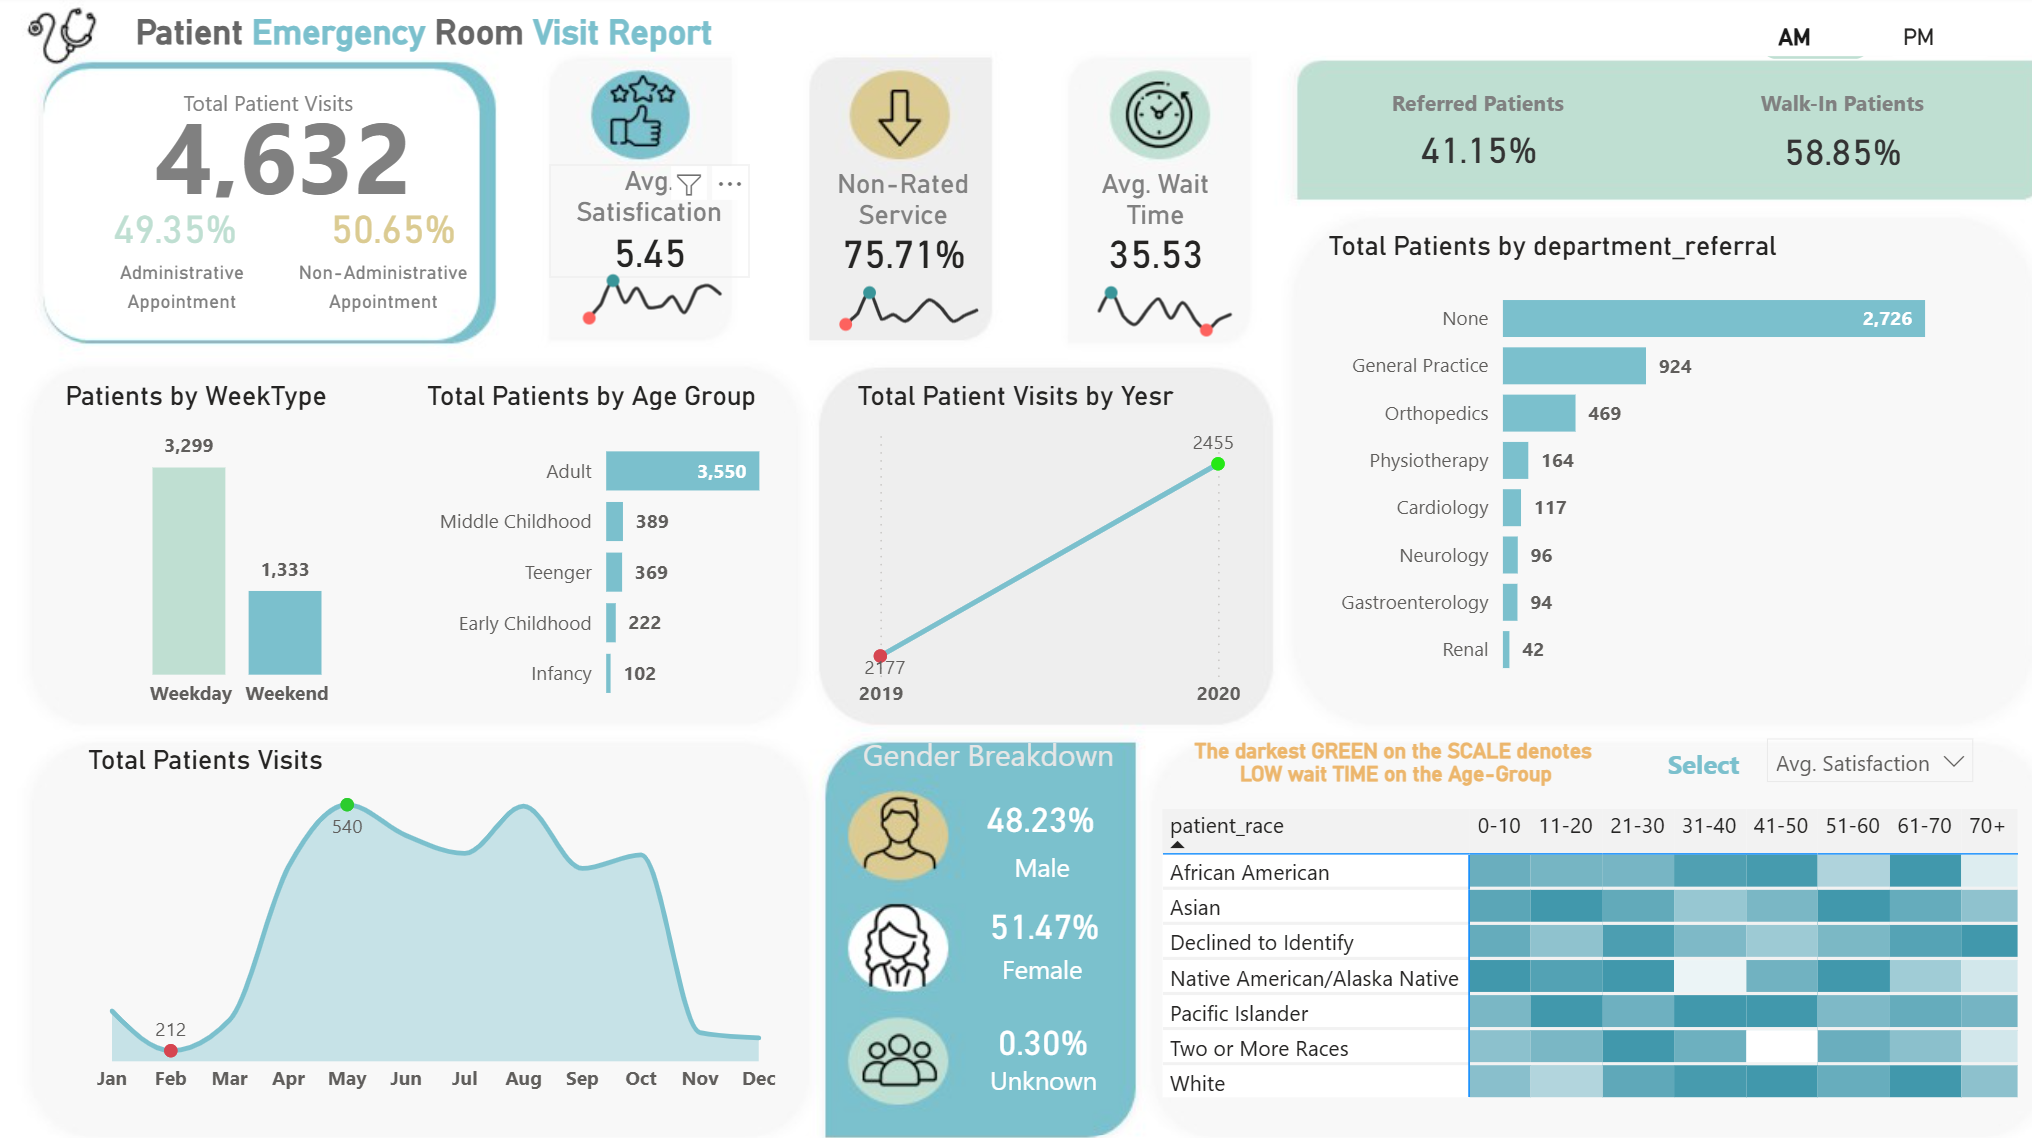

The dashboard page shown, as its layout file describes it:
{"tool":"powerbi","page":{"name":"Page 1","canvas":[1280,720],"ordinal":0},"visuals":[{"type":"cardVisual","fields":{"Data":["Calculation.Total Patients"]},"box":[76.1,32.3,208.3,108.9],"z":0},{"type":"card","fields":{"Values":["Calculation.% Administrative Schedule"]},"box":[66.9,127.2,89.8,38.3],"z":1000},{"type":"card","fields":{"Values":["Calculation.% NonAdministrative Schedule"]},"box":[189,126,118.5,39.5],"z":2000},{"type":"pivotTable","fields":{"Values":["Calculation.Average Satisfaction Score"],"Rows":["Patients Datasets.patient_race"],"Columns":["Patients Datasets.Age Group"]},"box":[726.3,505.3,553.9,192.2],"z":3000},{"type":"slicer","fields":{"Values":["Parameter.Parameter"]},"box":[1100.2,455.8,149.6,40.6],"z":4000},{"type":"clusteredBarChart","fields":{"Category":["Patients Datasets.Age Group"],"Y":["Calculation.Total Patients"]},"box":[265.5,240.8,250.7,215],"z":5000},{"type":"lineChart","title":"Total Patients Visits","fields":{"Category":["Date.Month"],"Y":["Calculation.Total Patients","Calculation.Values Max Point (Month)"]},"box":[52.5,469.7,444.9,227.9],"z":6000},{"type":"lineChart","title":"Total Patient Visits by Yesr","fields":{"Category":["Date.Year"],"Y":["Calculation.Total Patients","Calculation.Values Max Point (Year)"]},"box":[535.1,240.8,249.7,215],"z":7000},{"type":"clusteredBarChart","fields":{"Y":["Calculation.Total Patients"],"Category":["Patients Datasets.department_referral"]},"box":[830.3,146.6,421.1,292.3],"z":8000},{"type":"card","fields":{"Values":["Calculation.% Referred Patients"]},"box":[862.6,75.4,134.1,41.9],"z":9000},{"type":"card","fields":{"Values":["Calculation.% UnReferred Patients"]},"box":[1098.5,77.6,117.9,38.6],"z":10000},{"type":"card","fields":{"Values":["Calculation.HitMap Caption"]},"box":[734.2,457.8,282.4,47.6],"z":11000},{"type":"textbox","box":[61.8,157.6,108.9,51.5],"z":12000},{"type":"textbox","box":[180.3,157.6,124.5,51.5],"z":13000},{"type":"card","title":"Avg. Satisfication","fields":{"Values":["Calculation.Average Satisfaction Score"]},"box":[346.8,106,124.8,70.3],"z":14000},{"type":"card","title":"Non-Rated Service","fields":{"Values":["Calculation.% No Rating"]},"box":[508.3,108,119.9,68.4],"z":15000},{"type":"card","title":"Avg. Wait Time","fields":{"Values":["Calculation.Average Wait Time"]},"box":[672.8,108,107,68.4],"z":16000},{"type":"advancedSlicerVisual","fields":{"Values":["Patients Datasets.Moment"]},"box":[1098.8,0,160.5,45.6],"z":17000},{"type":"textbox","box":[866.2,52.6,125.7,39.5],"z":18000},{"type":"textbox","box":[1094.8,52.6,125.7,32.3],"z":19000},{"type":"clusteredColumnChart","title":"Patients by WeekType","fields":{"Y":["Calculation.Total Patients"],"Category":["Date.WeekType"]},"box":[38.6,240.8,226.9,215],"z":20000},{"type":"card","fields":{"Values":["Calculation.%Male Visit"]},"box":[603.4,558.8,106,49.5],"z":21000},{"type":"card","fields":{"Values":["Calculation.%Female Visit"]},"box":[606.4,491.5,96.1,49.5],"z":22000},{"type":"card","fields":{"Values":["Calculation.%Unkonwn Visit"]},"box":[606.4,634.1,99.1,44.6],"z":23000},{"type":"textbox","box":[76.1,52.6,189.1,43.1],"z":24000},{"type":"PBI_CV_25997FEB_F466_44FA_B562_AC4063283C4C","fields":{"measure":["Calculation.Average Satisfaction Score"],"axis":["Date.Month"]},"box":[353.5,161.9,122.1,51.5],"z":25000},{"type":"PBI_CV_25997FEB_F466_44FA_B562_AC4063283C4C","fields":{"measure":["Calculation.% No Rating"],"axis":["Date.Month"]},"box":[513.9,169.1,122.1,47.9],"z":26000},{"type":"PBI_CV_25997FEB_F466_44FA_B562_AC4063283C4C","fields":{"measure":["Calculation.Average Wait Time"],"axis":["Date.Month"]},"box":[673.1,169.1,122.1,51.5],"z":27000},{"type":"textbox","box":[527.1,457.8,189.3,35.7],"z":28000},{"type":"textbox","box":[622.2,530.1,66.4,39.6],"z":29000},{"type":"textbox","box":[620.3,594.5,70.3,39.6],"z":30000},{"type":"textbox","box":[604.4,663.9,104,49.5],"z":31000},{"type":"textbox","box":[1037.4,465.7,66.4,39.6],"z":32000},{"type":"textbox","box":[67.4,5.9,401.3,39.6],"z":33000}]}

Visuals, with their boxes in screenshot pixels (x1, y1, x2, y2), scaled from the page's 1280x720 canvas onto the 2032x1138 screenshot:
cardVisual - Calculation.Total Patients: <region>121, 51, 451, 223</region>
card - Calculation.% Administrative Schedule: <region>106, 201, 249, 262</region>
card - Calculation.% NonAdministrative Schedule: <region>300, 199, 488, 262</region>
pivotTable - Calculation.Average Satisfaction Score x Patients Datasets.patient_race: <region>1153, 799, 2031, 1102</region>
slicer - Parameter.Parameter: <region>1747, 720, 1984, 785</region>
clusteredBarChart - Patients Datasets.Age Group x Calculation.Total Patients: <region>421, 381, 819, 720</region>
"Total Patients Visits" lineChart: <region>83, 742, 790, 1103</region>
"Total Patient Visits by Yesr" lineChart: <region>849, 381, 1246, 720</region>
clusteredBarChart - Calculation.Total Patients x Patients Datasets.department_referral: <region>1318, 232, 1987, 694</region>
card - Calculation.% Referred Patients: <region>1369, 119, 1582, 185</region>
card - Calculation.% UnReferred Patients: <region>1744, 123, 1931, 184</region>
card - Calculation.HitMap Caption: <region>1166, 724, 1614, 799</region>
textbox: <region>98, 249, 271, 330</region>
textbox: <region>286, 249, 484, 330</region>
"Avg. Satisfication" card: <region>551, 168, 749, 279</region>
"Non-Rated Service" card: <region>807, 171, 997, 279</region>
"Avg. Wait Time" card: <region>1068, 171, 1238, 279</region>
advancedSlicerVisual - Patients Datasets.Moment: <region>1744, 0, 1999, 72</region>
textbox: <region>1375, 83, 1575, 146</region>
textbox: <region>1738, 83, 1938, 134</region>
"Patients by WeekType" clusteredColumnChart: <region>61, 381, 421, 720</region>
card - Calculation.%Male Visit: <region>958, 883, 1126, 961</region>
card - Calculation.%Female Visit: <region>963, 777, 1115, 855</region>
card - Calculation.%Unkonwn Visit: <region>963, 1002, 1120, 1073</region>
textbox: <region>121, 83, 421, 151</region>
PBI_CV_25997FEB_F466_44FA_B562_AC4063283C4C - Calculation.Average Satisfaction Score x Date.Month: <region>561, 256, 755, 337</region>
PBI_CV_25997FEB_F466_44FA_B562_AC4063283C4C - Calculation.% No Rating x Date.Month: <region>816, 267, 1010, 343</region>
PBI_CV_25997FEB_F466_44FA_B562_AC4063283C4C - Calculation.Average Wait Time x Date.Month: <region>1069, 267, 1262, 349</region>
textbox: <region>837, 724, 1137, 780</region>
textbox: <region>988, 838, 1093, 900</region>
textbox: <region>985, 940, 1096, 1002</region>
textbox: <region>959, 1049, 1125, 1128</region>
textbox: <region>1647, 736, 1752, 799</region>
textbox: <region>107, 9, 744, 72</region>
